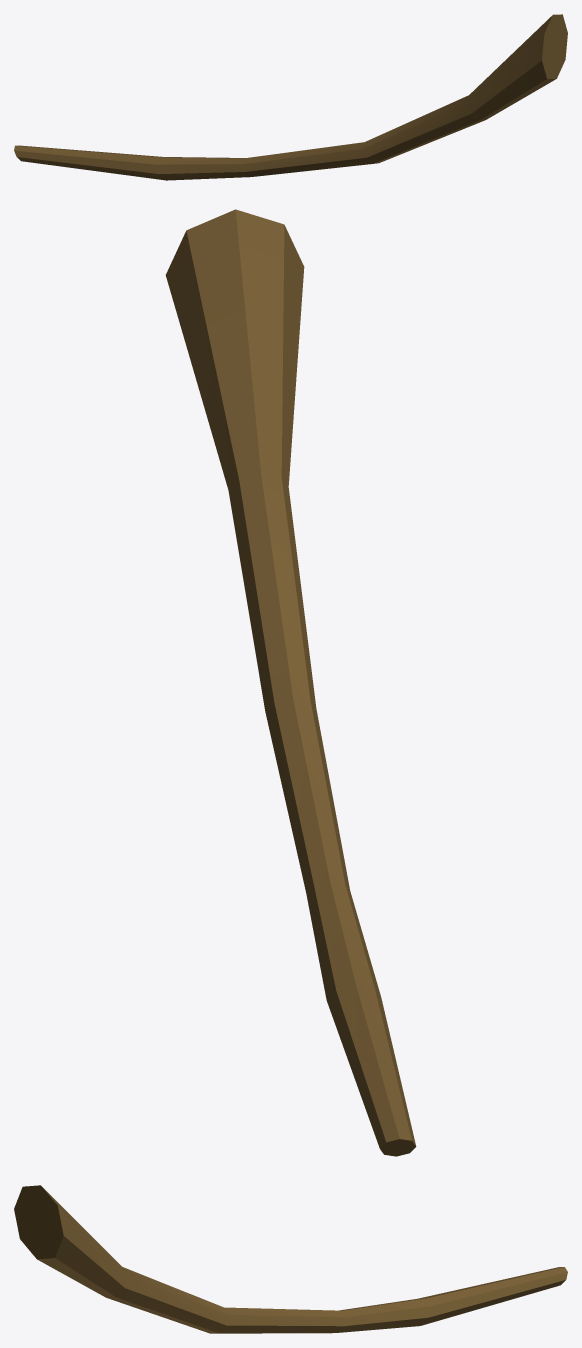
The model's file is Branch04.fbx.
3 renders of one model, top to bottom at view 1: azimuth 30°, elevation 25°; view 2: azimuth 150°, elevation 25°; view 3: azimuth 270°, elevation 25°, orthographic. The views are drawn at different scales.
Visible parts, largest first — view 1: Branch04; view 2: Branch04; view 3: Branch04.
Part boxes in pixels (bbox=[...]): Branch04: bbox=[14, 14, 567, 180]; Branch04: bbox=[165, 209, 416, 1156]; Branch04: bbox=[14, 1185, 567, 1333].
Size of the model in its own units: 25.06 by 16.67 by 30.9.
